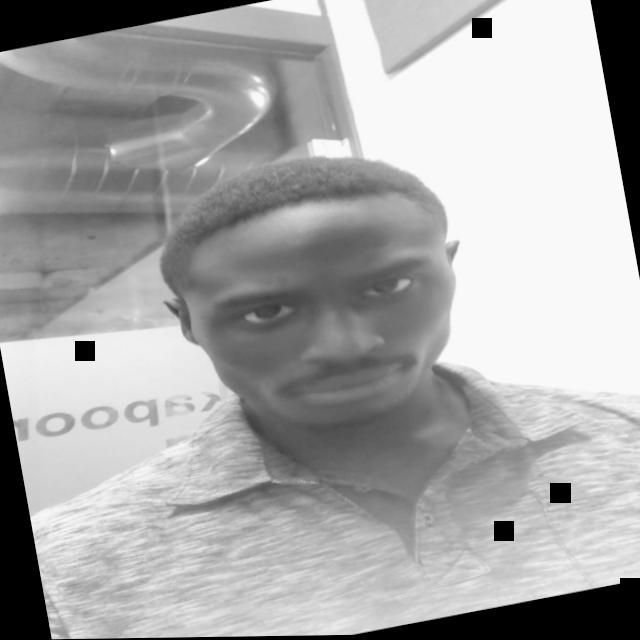NO-Mask: (164, 193, 466, 454)
